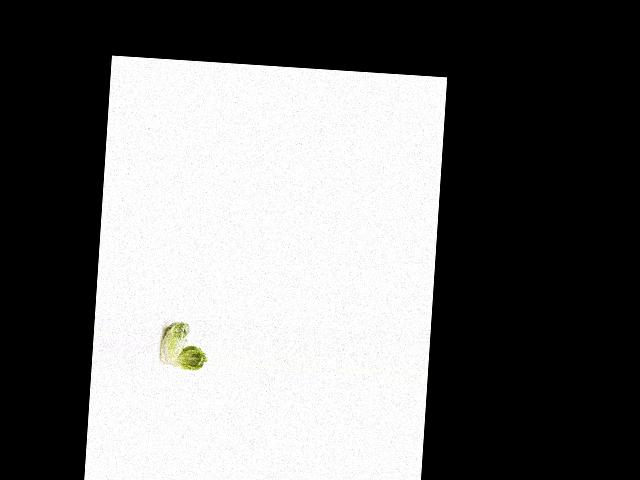lettuce: (157, 318, 192, 368)
